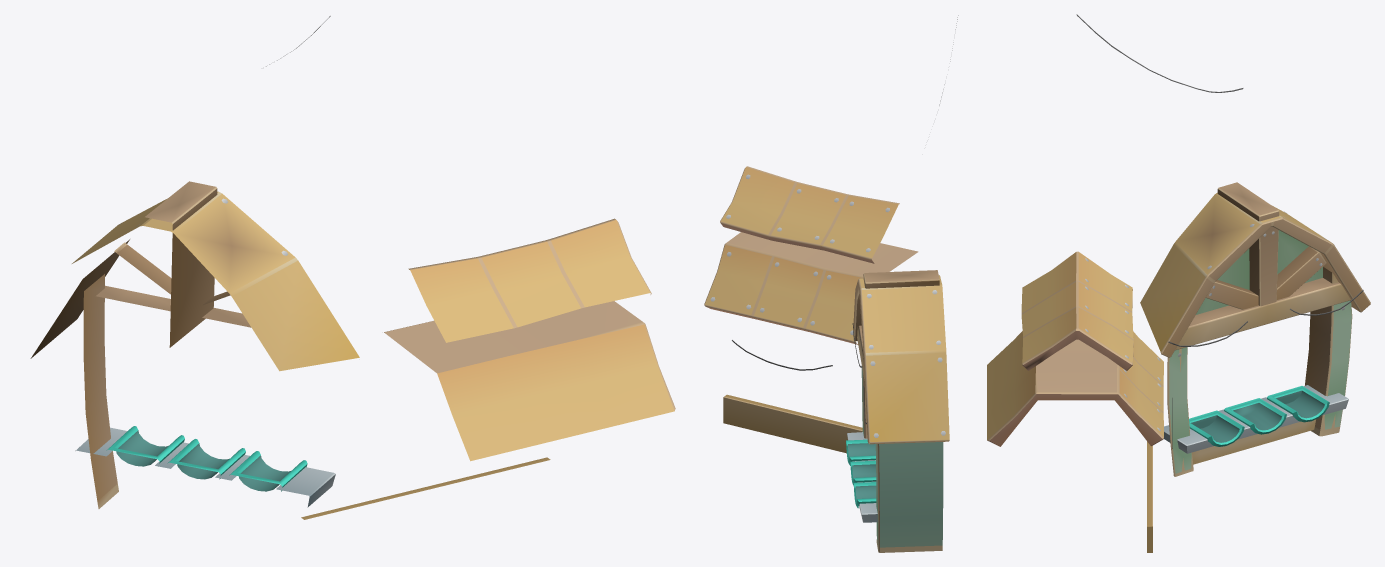
The model's file is ExchangeWood_1.glb.
3 views of the same model, side by side, from view 1: azimuth 30°, elevation 25°; view 2: azimuth 150°, elevation 25°; view 3: azimuth 270°, elevation 25° (orthographic). The views are drawn at different scales.
Visible parts, largest first — view 1: ExchangeWood; view 2: ExchangeWood; view 3: ExchangeWood.
Boxes of the visible parts, box(x1,y1,x2,y2) form: ExchangeWood: box(30, 16, 675, 519); ExchangeWood: box(704, 15, 958, 552); ExchangeWood: box(987, 14, 1370, 552).
Size of the model in its own units: 4.79 by 6.07 by 4.77.
